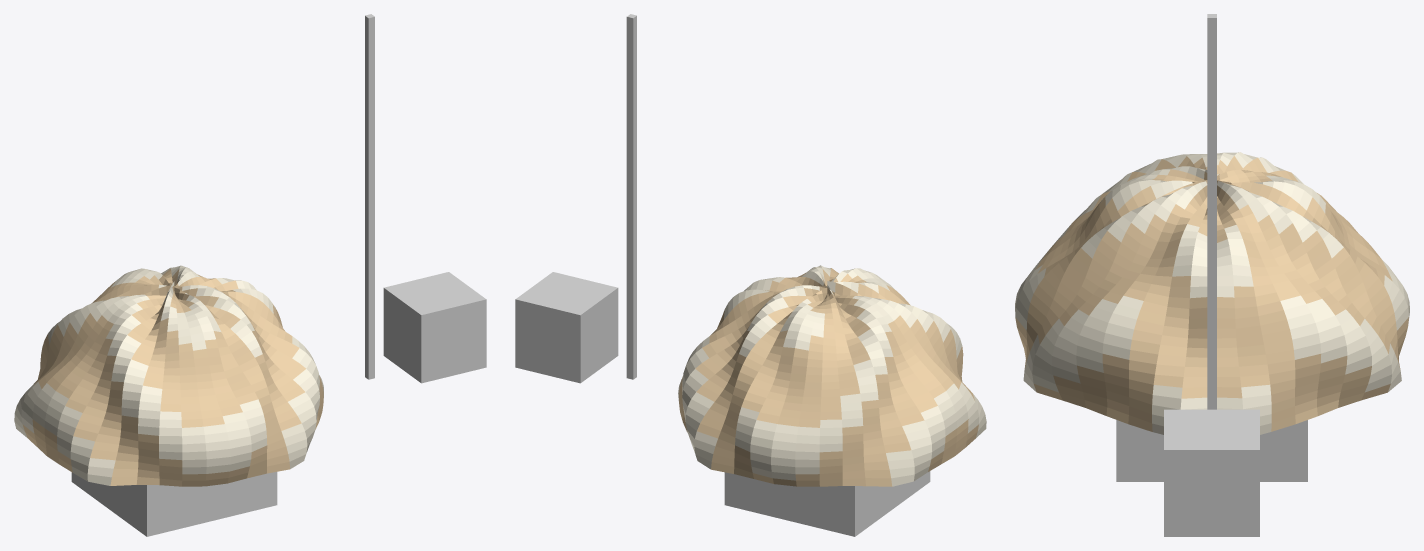
File: BrainCoral_A_LOD0_roblox.fbx
3 views of the same model, side by side, from view 1: azimuth 30°, elevation 25°; view 2: azimuth 150°, elevation 25°; view 3: azimuth 270°, elevation 25° (orthographic). The views are drawn at different scales.
Parts seen in each view (by area): view 1: BrainCoral_A_Tan, BrainCoral_A_Cream, 1_Stud_Cube, Ref_Head, 5.3_Stud_Height_Ruler; view 2: BrainCoral_A_Tan, BrainCoral_A_Cream, 1_Stud_Cube, Ref_Head, 5.3_Stud_Height_Ruler; view 3: BrainCoral_A_Tan, BrainCoral_A_Cream, 1_Stud_Cube, Ref_Head, 5.3_Stud_Height_Ruler.
Part boxes in pixels (left/top/right/bottom): BrainCoral_A_Tan: left=22, top=269, right=323, bottom=486; BrainCoral_A_Cream: left=14, top=265, right=323, bottom=485; 1_Stud_Cube: left=383, top=272, right=486, bottom=383; Ref_Head: left=71, top=472, right=277, bottom=536; 5.3_Stud_Height_Ruler: left=365, top=14, right=374, bottom=379; BrainCoral_A_Tan: left=679, top=268, right=978, bottom=486; BrainCoral_A_Cream: left=678, top=265, right=986, bottom=486; 1_Stud_Cube: left=515, top=272, right=618, bottom=383; Ref_Head: left=724, top=471, right=930, bottom=536; 5.3_Stud_Height_Ruler: left=626, top=14, right=636, bottom=379; BrainCoral_A_Tan: left=1015, top=156, right=1408, bottom=431; BrainCoral_A_Cream: left=1015, top=152, right=1409, bottom=434; 1_Stud_Cube: left=1164, top=409, right=1259, bottom=536; Ref_Head: left=1116, top=420, right=1307, bottom=481; 5.3_Stud_Height_Ruler: left=1207, top=14, right=1216, bottom=409.
Size of the model in its own units: 6.49 by 4.12 by 6.3.
